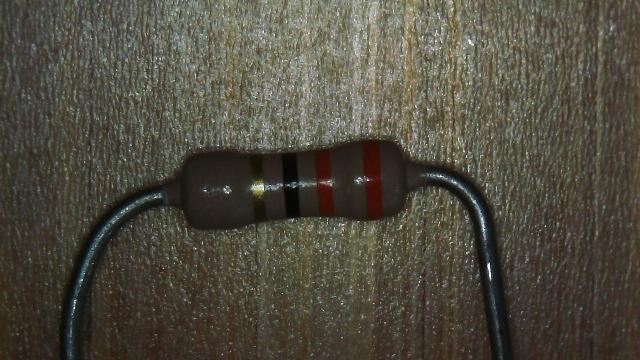black: (282, 152, 300, 217)
gold: (252, 156, 266, 221)
orange: (362, 140, 382, 220), (315, 150, 333, 216)
resistor: (164, 127, 421, 236)
